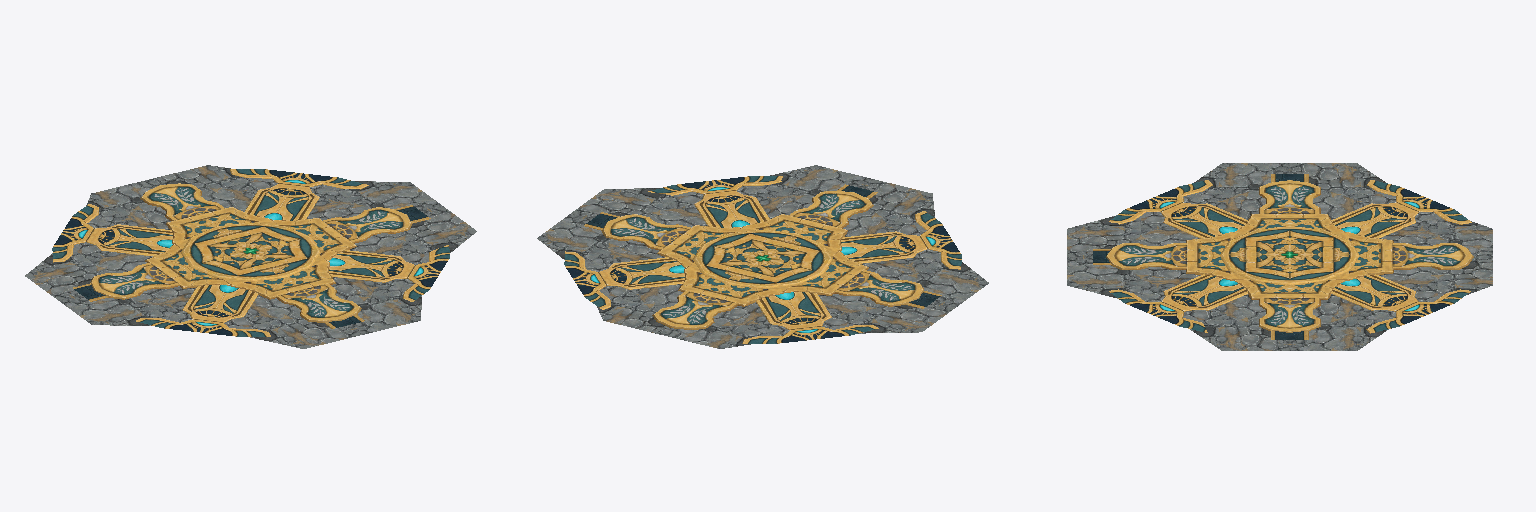
3 renders of one model, left to right at view 1: azimuth 30°, elevation 25°; view 2: azimuth 150°, elevation 25°; view 3: azimuth 270°, elevation 25°, orthographic.
Visible parts, largest first — view 1: M01_T05_D0_ForestBridge_LOD100; view 2: M01_T05_D0_ForestBridge_LOD100; view 3: M01_T05_D0_ForestBridge_LOD100.
Part boxes in pixels (left/top/right/bottom): M01_T05_D0_ForestBridge_LOD100: left=25, top=165, right=476, bottom=348; M01_T05_D0_ForestBridge_LOD100: left=537, top=165, right=988, bottom=348; M01_T05_D0_ForestBridge_LOD100: left=1067, top=163, right=1492, bottom=350.
Size of the model in its own units: 24 by 0.1601 by 22.95.
1 materials, 1 textured.